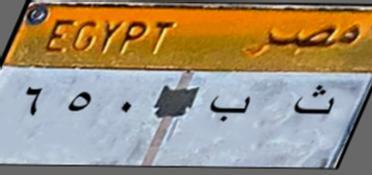0: (115, 97, 135, 118)
5: (66, 84, 94, 123)
6: (20, 87, 44, 120)
baa: (207, 88, 253, 127)
thaa: (290, 82, 336, 120)
